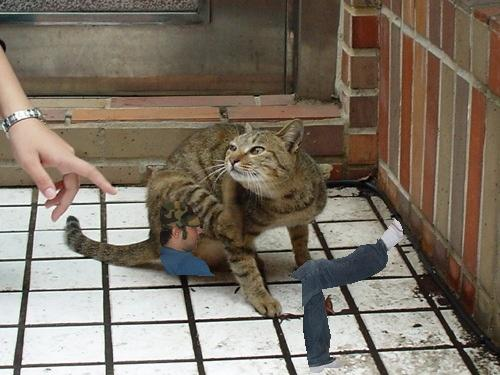tampered: (160, 202, 403, 373)
